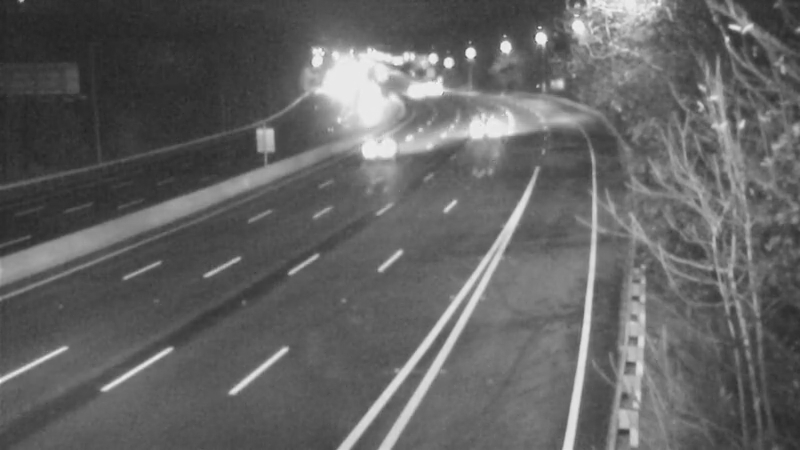vehicle: (401, 66, 451, 116), (453, 96, 503, 146), (363, 122, 413, 172)
